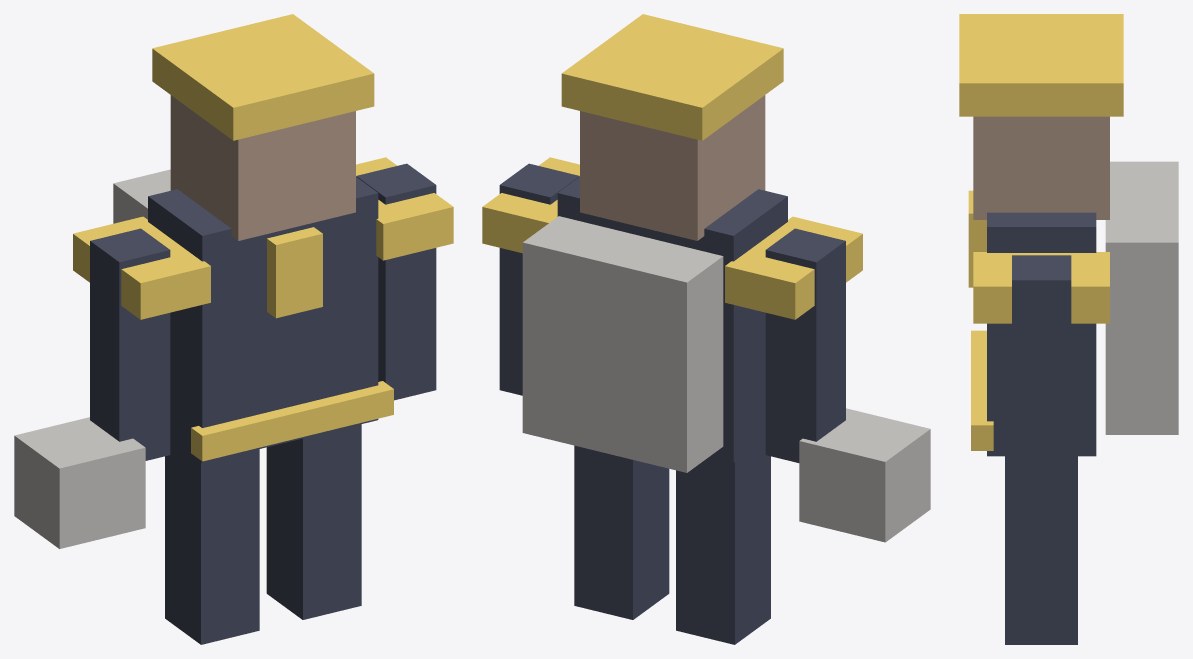
File: 03_edda_echohand_mechanist_under_mag_rail.glb
The picture shows the model from 3 angles, left to right: view 1: azimuth 30°, elevation 25°; view 2: azimuth 150°, elevation 25°; view 3: azimuth 270°, elevation 25°; orthographic projection.
Parts seen in each view (by area): view 1: Edda Echohand, Mechanist under Mag-Rail; view 2: Edda Echohand, Mechanist under Mag-Rail; view 3: Edda Echohand, Mechanist under Mag-Rail.
Boxes of the visible parts, x1,y1,x2,y2 form: Edda Echohand, Mechanist under Mag-Rail: (14,14,453,644); Edda Echohand, Mechanist under Mag-Rail: (482,14,930,644); Edda Echohand, Mechanist under Mag-Rail: (959,14,1178,644).
Size of the model in its own units: 1.07 by 1.45 by 0.5162.
